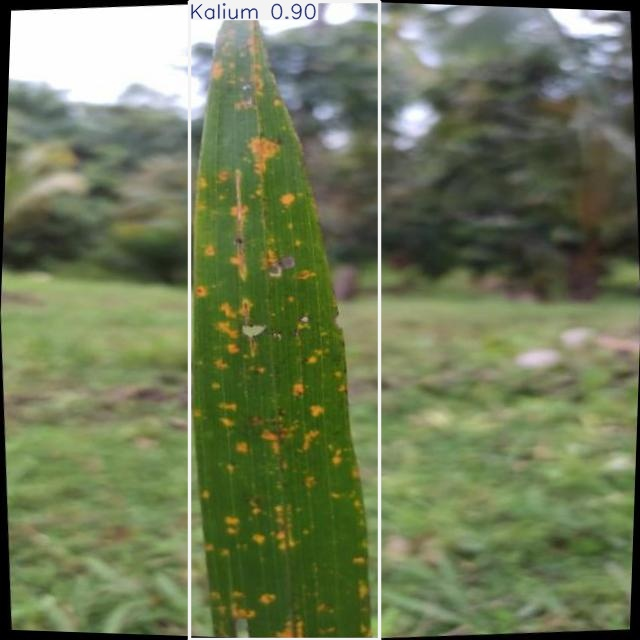Kalium: (190, 2, 379, 639)
